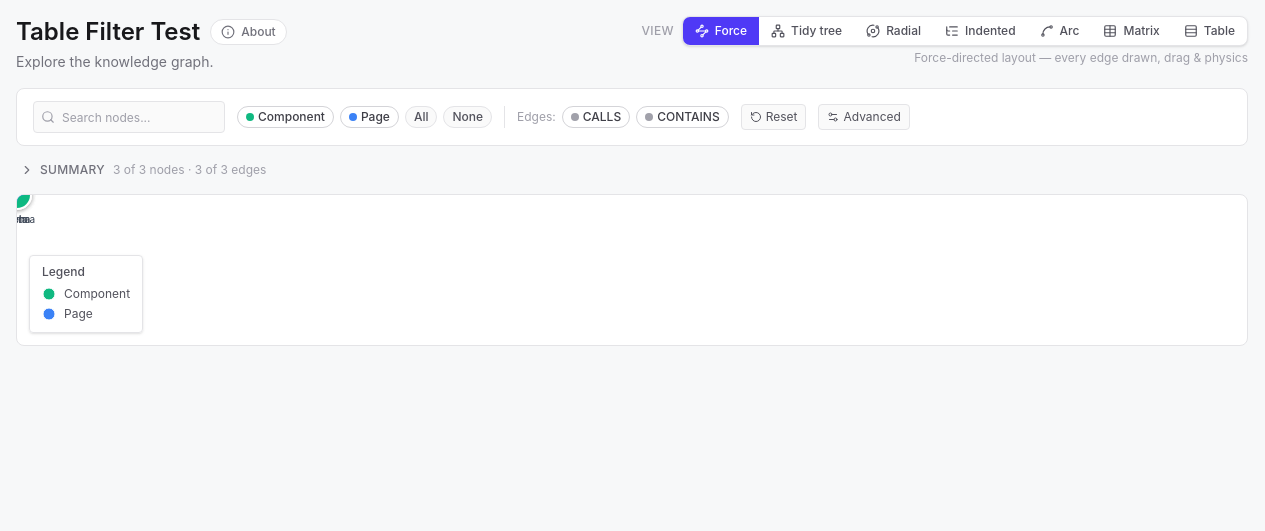
Test: Viewer summary bar › tracks the filtered set while the denominator stays the whole graph
Click the button "Summary 3 of 3 nodes · 3 of 3 edges" at (72, 170), box [16,158,1248,182]
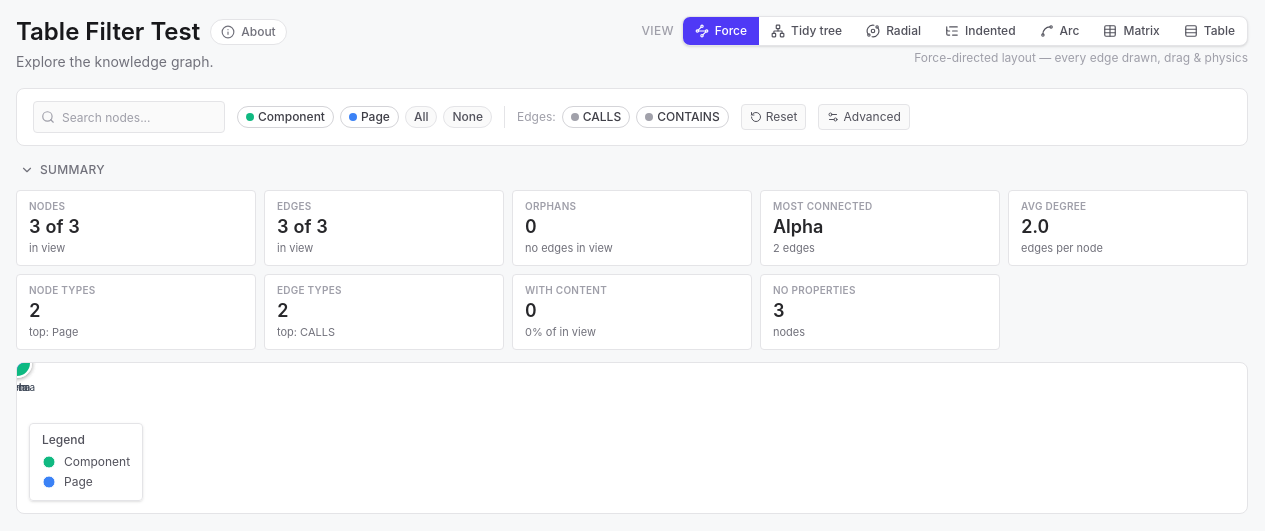
Expected: the 1st text "3 of 3" is shown, [29,216,80,237]
Note: Dropping the Component pill removes node c and both edges touching it.
Click the button "Component" at (286, 117), box [237,106,334,128]
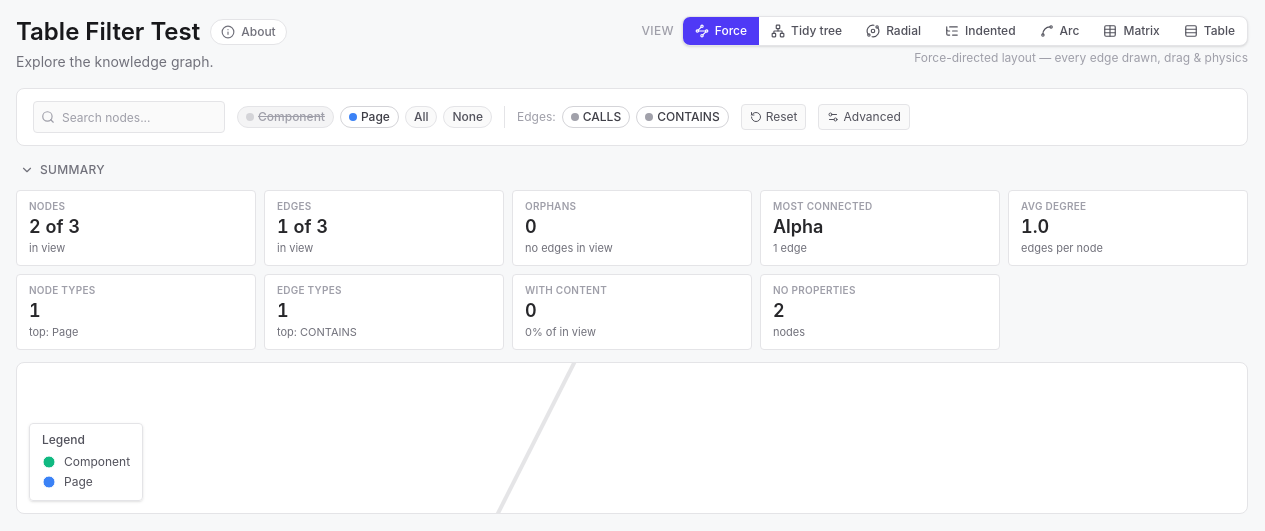
Expected: the text "2 of 3" is shown, [29,216,80,237]
Expected: the text "1 of 3" is shown, [277,216,328,237]
